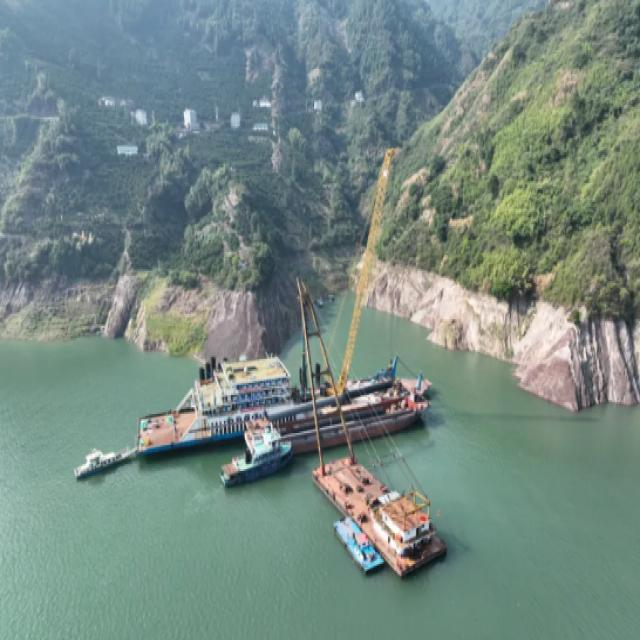navalvessels: (208, 163, 640, 292)
